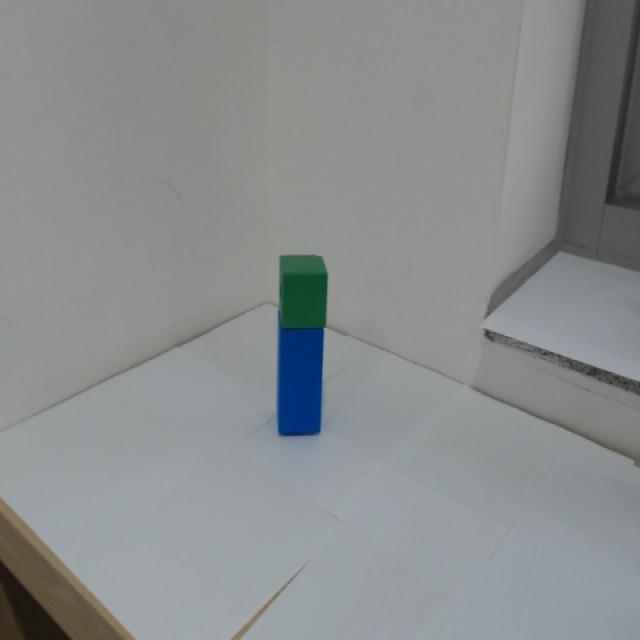cube: (274, 255, 334, 328)
